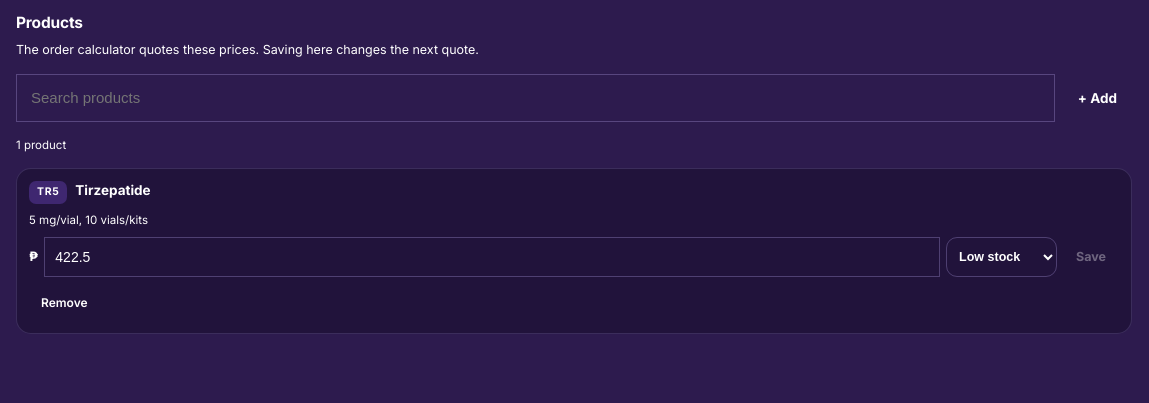
Test: ProductsCard — changing a price › surfaces a row-level-security rejection rather than claiming success
The width and height of the screenshot is (1149, 403).
Replace the text in the number field named "Price for TR5" with "999" at point(492, 257), box [44,237,940,277]
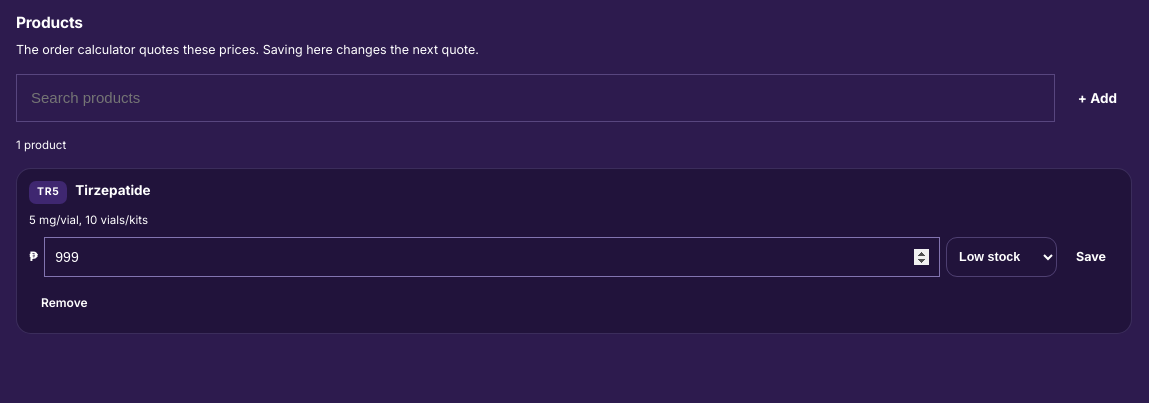
Click the button with aria-label "Save TR5" at point(1091, 257), box [1063,237,1119,277]
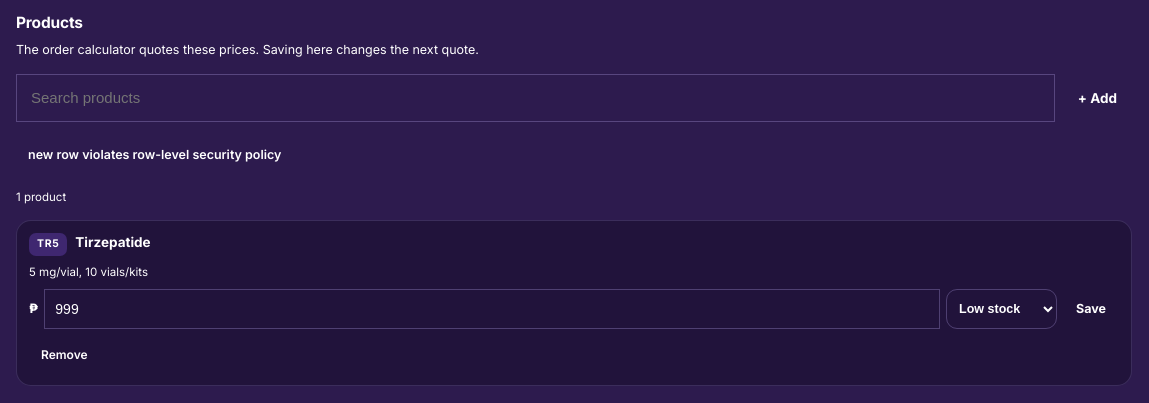
Expected: the message shows "row-level security", [28,147,281,162]
